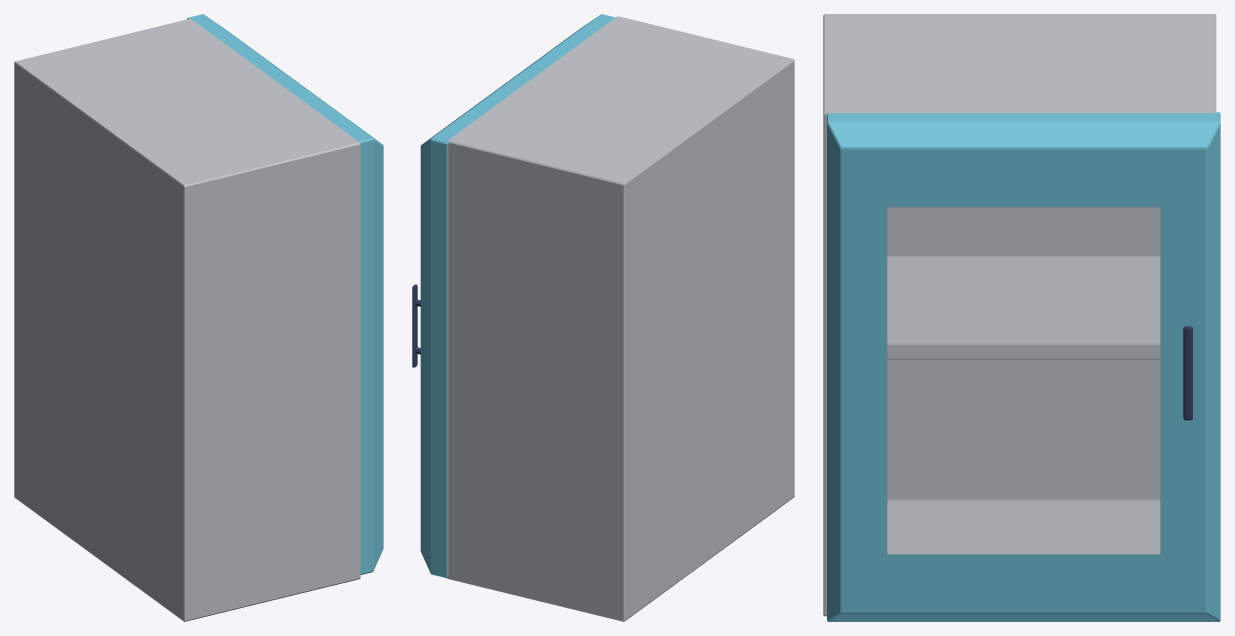
File: KabinetAtas1.fbx
3 views of the same model, side by side, from view 1: azimuth 30°, elevation 25°; view 2: azimuth 150°, elevation 25°; view 3: azimuth 270°, elevation 25° (orthographic). The views are drawn at different scales.
Parts seen in each view (by area): view 1: kabinet_pendek; view 2: kabinet_pendek; view 3: kabinet_pendek.
Part boxes in pixels (x1,y1,x2,y2): kabinet_pendek: (14,14,383,621); kabinet_pendek: (412,14,794,621); kabinet_pendek: (823,14,1220,621).
Bounding box in the file's own units: 90.39 × 170 × 121.
